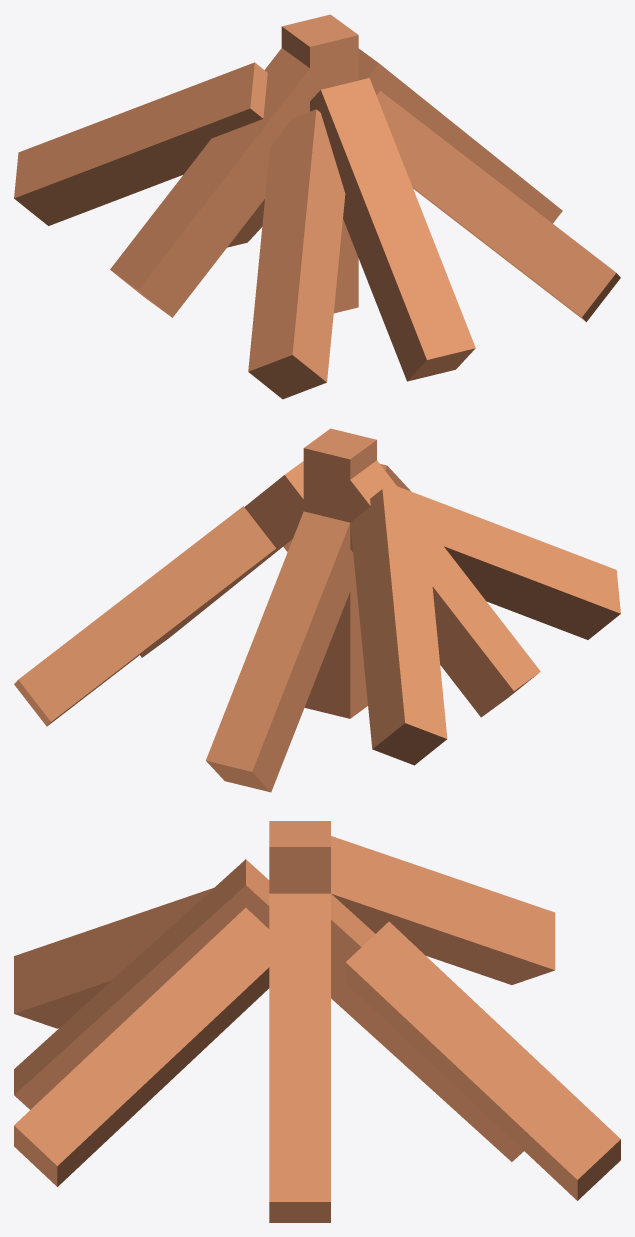
The model's file is Brasero_construct.fbx.
3 views of the same model, one above another, from view 1: azimuth 30°, elevation 25°; view 2: azimuth 150°, elevation 25°; view 3: azimuth 270°, elevation 25° (orthographic). The views are drawn at different scales.
Visible parts, largest first — view 1: structure_pole_362, structure_pole_359, structure_pole_358, structure_pole_357, structure_pole_363, structure_pole_361, structure_pole_364, structure_pole_360; view 2: structure_pole_360, structure_pole_357, structure_pole_366, structure_pole_359, structure_pole_358, structure_pole_361, structure_pole_364; view 3: structure_pole_366, structure_pole_363, structure_pole_364, structure_pole_357, structure_pole_362, structure_pole_359, structure_pole_360, structure_pole_361.
Boxes of the visible parts, bbox=[...] form: structure_pole_362: bbox=[310, 78, 475, 381]; structure_pole_359: bbox=[248, 109, 345, 399]; structure_pole_358: bbox=[110, 48, 356, 317]; structure_pole_357: bbox=[14, 62, 267, 225]; structure_pole_363: bbox=[376, 91, 620, 321]; structure_pole_361: bbox=[281, 14, 358, 313]; structure_pole_364: bbox=[358, 48, 562, 223]; structure_pole_360: bbox=[227, 199, 264, 247]; structure_pole_360: bbox=[206, 511, 355, 792]; structure_pole_357: bbox=[350, 489, 447, 765]; structure_pole_366: bbox=[14, 506, 275, 726]; structure_pole_359: bbox=[397, 486, 620, 639]; structure_pole_358: bbox=[306, 460, 540, 717]; structure_pole_361: bbox=[303, 428, 376, 718]; structure_pole_364: bbox=[140, 461, 310, 657]; structure_pole_366: bbox=[345, 921, 620, 1200]; structure_pole_363: bbox=[14, 908, 269, 1186]; structure_pole_364: bbox=[269, 893, 330, 1222]; structure_pole_357: bbox=[331, 836, 555, 984]; structure_pole_362: bbox=[14, 859, 269, 1109]; structure_pole_359: bbox=[14, 888, 213, 1028]; structure_pole_360: bbox=[331, 894, 523, 1161]; structure_pole_361: bbox=[269, 821, 330, 893].
Bounding box in the file's own units: 16.83 × 10.61 × 18.51.
